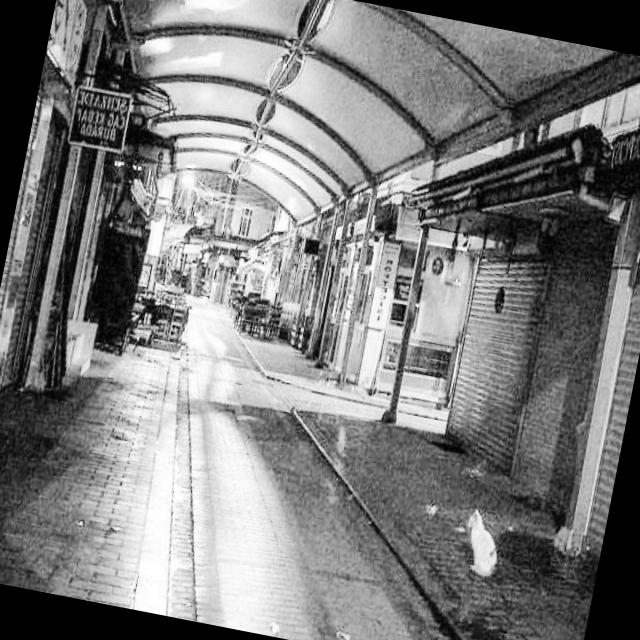Cat: (440, 496, 524, 602)
